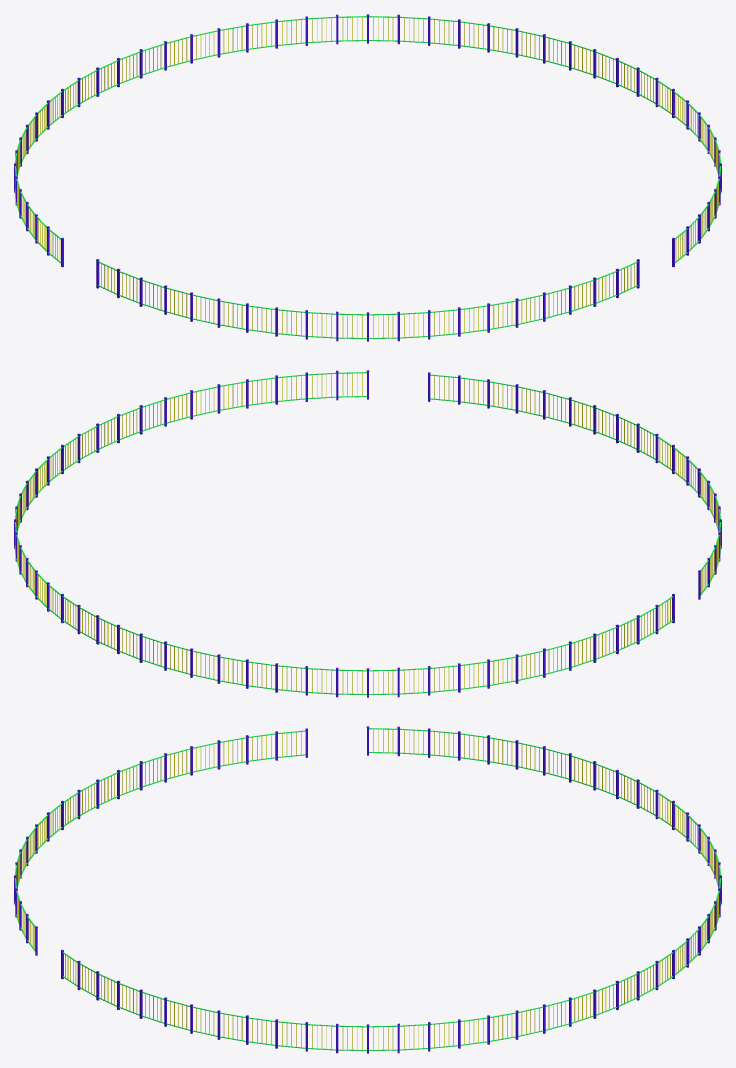
The model's file is addOn_fenceMetal.dae.
The picture shows the model from 3 angles, top to bottom: view 1: azimuth 30°, elevation 25°; view 2: azimuth 150°, elevation 25°; view 3: azimuth 270°, elevation 25°; orthographic projection.
Bounding box in the file's own units: 855 × 855 × 37.94.
